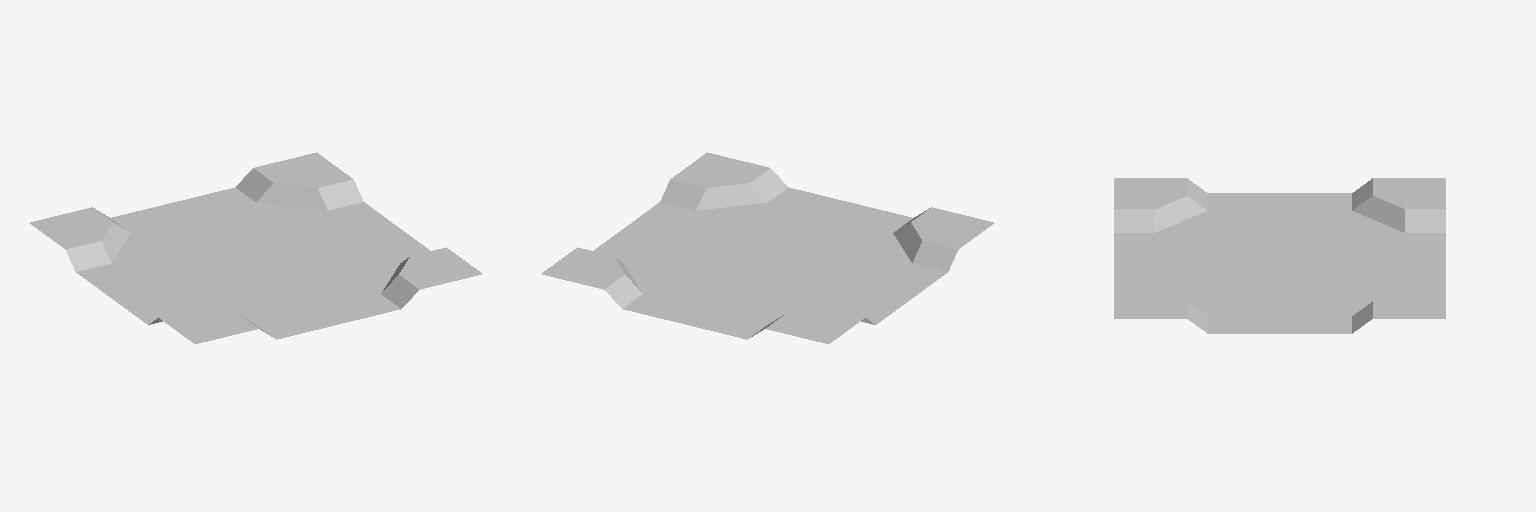
File: ground_pathCross.obj
3 renders of one model, left to right at view 1: azimuth 30°, elevation 25°; view 2: azimuth 150°, elevation 25°; view 3: azimuth 270°, elevation 25°, orthographic.
Parts seen in each view (by area): view 1: ground_pathCross; view 2: ground_pathCross; view 3: ground_pathCross.
Boxes of the visible parts, x1=… form: ground_pathCross: x1=30, y1=152, x2=481, y2=343; ground_pathCross: x1=542, y1=152, x2=993, y2=343; ground_pathCross: x1=1114, y1=178, x2=1445, y2=333.
Bounding box in the file's own units: 1 × 0.05 × 1.